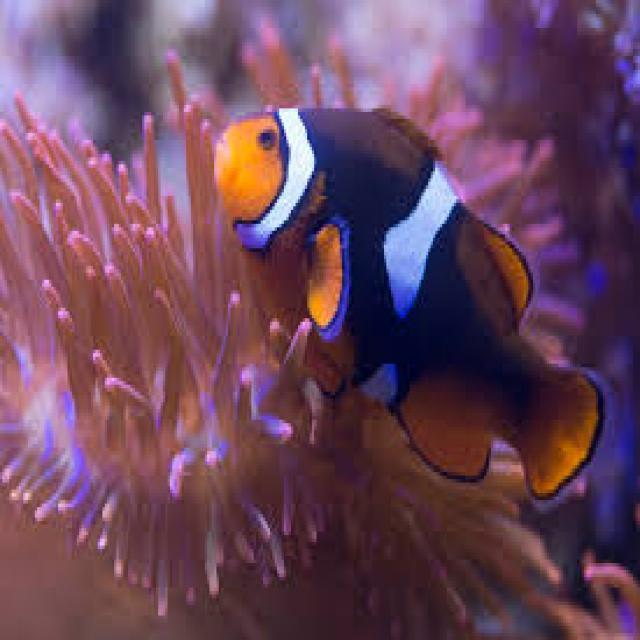ClownFish: (213, 103, 601, 501)
